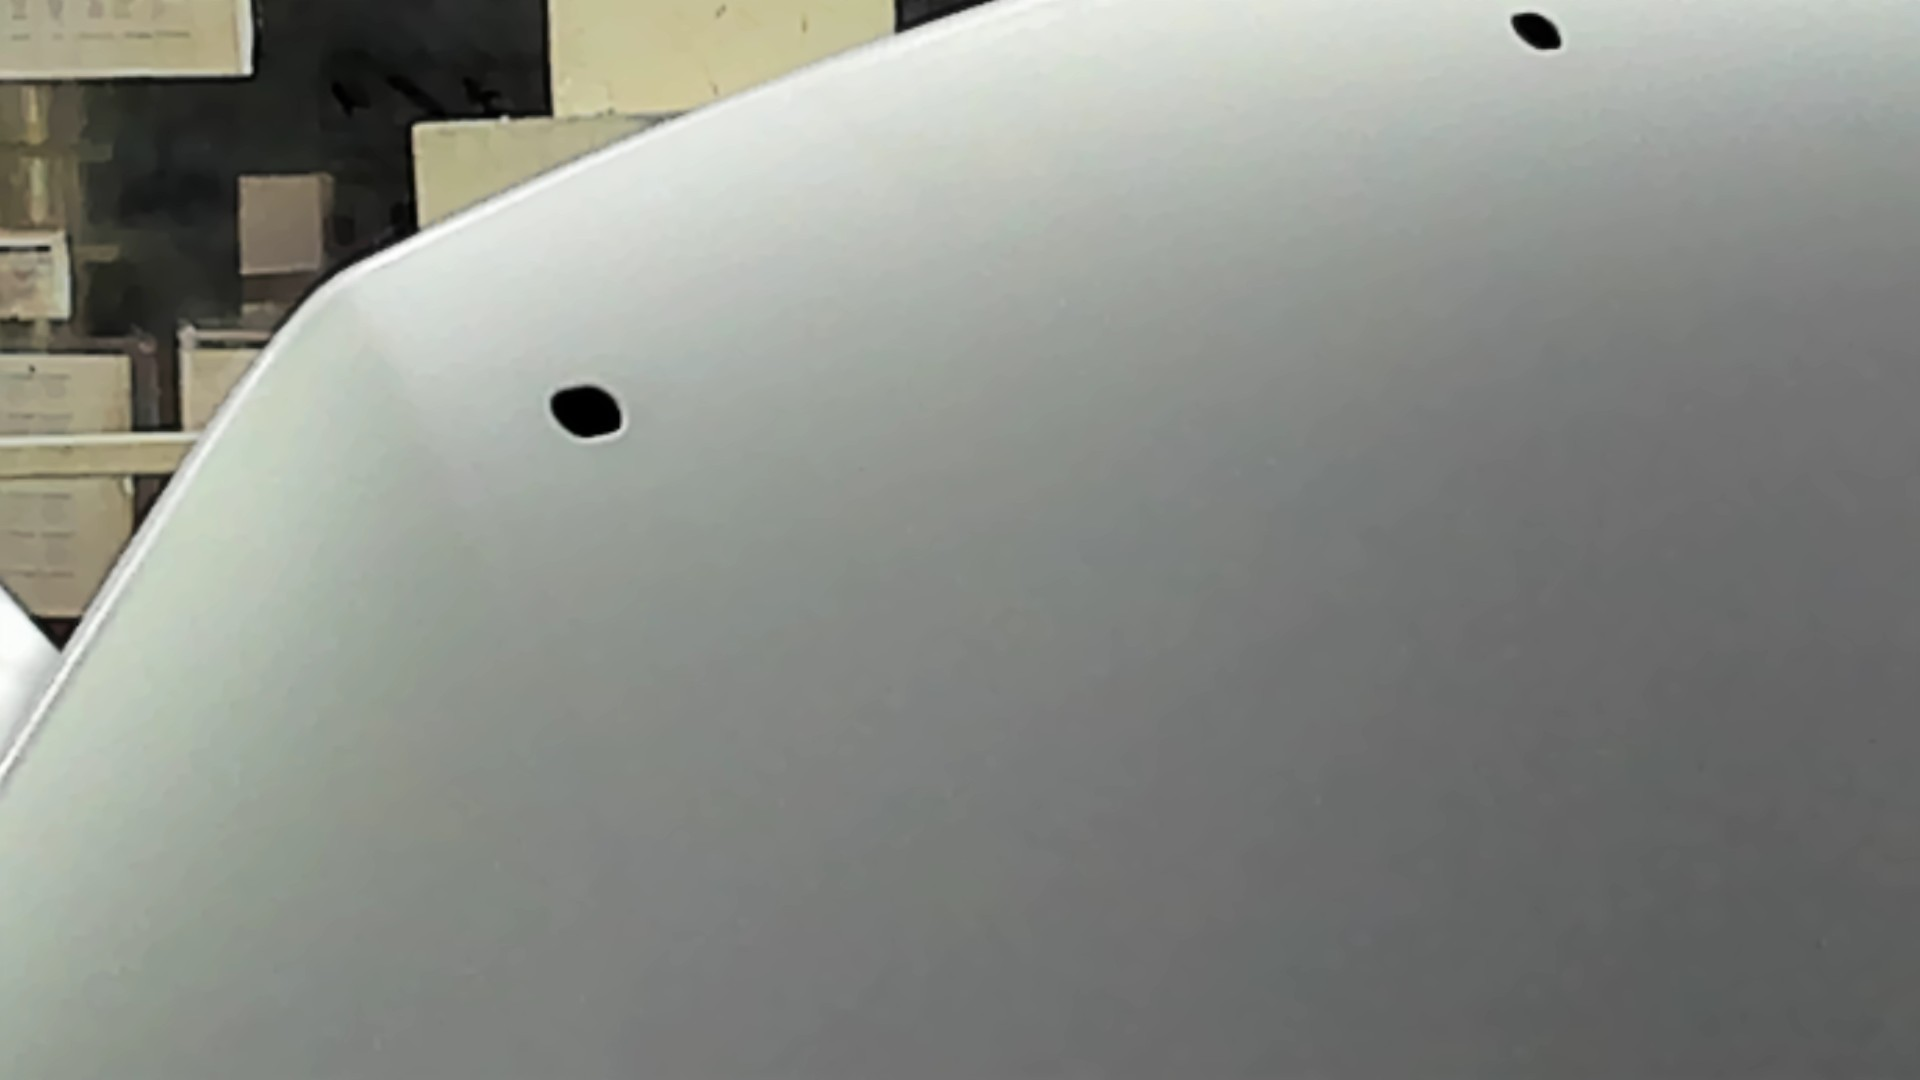amorfo: (543, 377, 632, 444), (1501, 9, 1569, 55)
capo: (694, 138, 1920, 1080)
